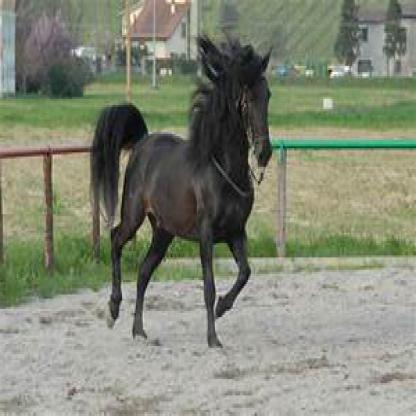horse: (88, 45, 274, 346)
